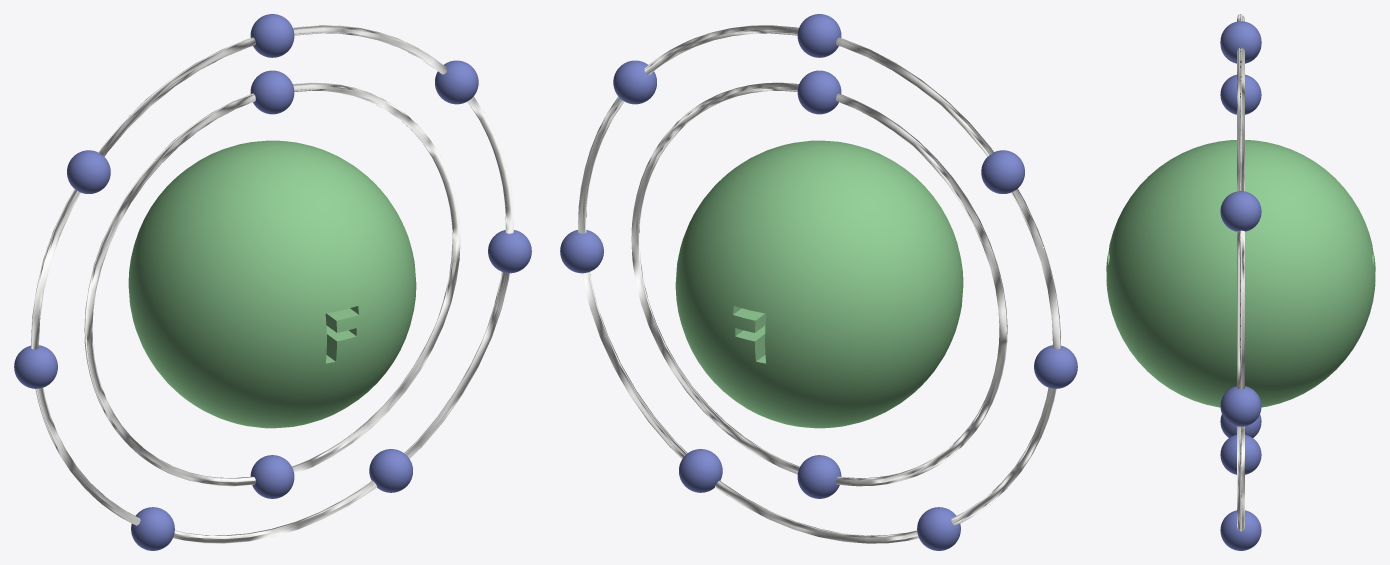
3 views of the same model, side by side, from view 1: azimuth 30°, elevation 25°; view 2: azimuth 150°, elevation 25°; view 3: azimuth 270°, elevation 25° (orthographic). The views are drawn at different scales.
Parts seen in each view (by area): view 1: Body1.002, Body2.001, Body1.001, Body6, Body5, Body1, Body8, Body9, Body2, Body3, Body4, Body7; view 2: Body1.002, Body2.001, Body1.001, Body6, Body5, Body1, Body8, Body9, Body2, Body3, Body4, Body7; view 3: Body1.002, Body2.001, Body7, Body9, Body2, Body5, Body1, Body3, Body4.
Part boxes in pixels (bbox=[...]): Body1.002: bbox=[128, 140, 416, 428]; Body2.001: bbox=[31, 25, 513, 543]; Body1.001: bbox=[84, 82, 460, 486]; Body6: bbox=[67, 150, 110, 193]; Body5: bbox=[369, 449, 412, 492]; Body1: bbox=[250, 70, 294, 114]; Body8: bbox=[14, 345, 57, 388]; Body9: bbox=[488, 230, 531, 273]; Body2: bbox=[250, 14, 294, 57]; Body3: bbox=[250, 455, 294, 498]; Body4: bbox=[131, 507, 174, 550]; Body7: bbox=[435, 60, 478, 104]; Body1.002: bbox=[675, 140, 963, 428]; Body2.001: bbox=[578, 25, 1060, 543]; Body1.001: bbox=[631, 82, 1007, 486]; Body6: bbox=[981, 150, 1024, 193]; Body5: bbox=[679, 449, 722, 492]; Body1: bbox=[797, 70, 841, 114]; Body8: bbox=[1034, 345, 1077, 388]; Body9: bbox=[560, 230, 603, 273]; Body2: bbox=[797, 14, 841, 57]; Body3: bbox=[797, 455, 841, 498]; Body4: bbox=[917, 507, 960, 550]; Body7: bbox=[613, 60, 656, 104]; Body1.002: bbox=[1106, 140, 1375, 407]; Body2.001: bbox=[1237, 14, 1244, 531]; Body7: bbox=[1220, 191, 1261, 231]; Body9: bbox=[1220, 386, 1261, 426]; Body2: bbox=[1220, 21, 1261, 61]; Body5: bbox=[1220, 510, 1261, 550]; Body1: bbox=[1220, 74, 1261, 114]; Body3: bbox=[1220, 434, 1261, 474]; Body4: bbox=[1220, 414, 1261, 437].
Size of the model in its own units: 0.2155 by 0.2095 by 0.105.
